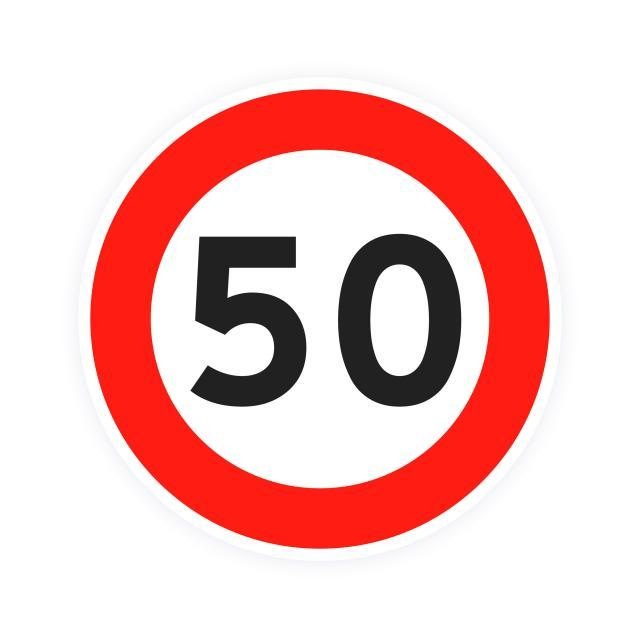speed limit 50: (81, 79, 554, 555)
